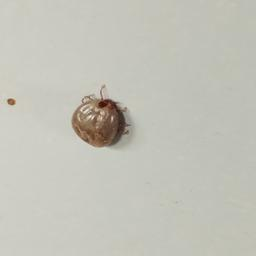Rhipicephalus sanguineus: (71, 85, 132, 148)
